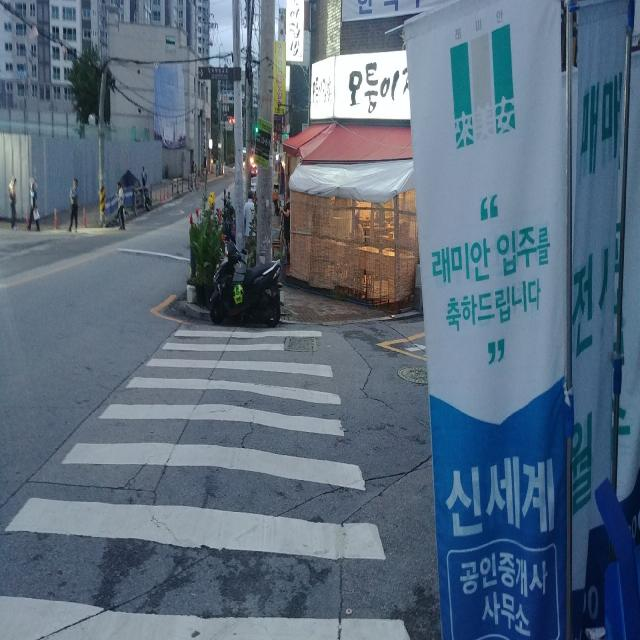횡단보도: (1, 322, 416, 640)
